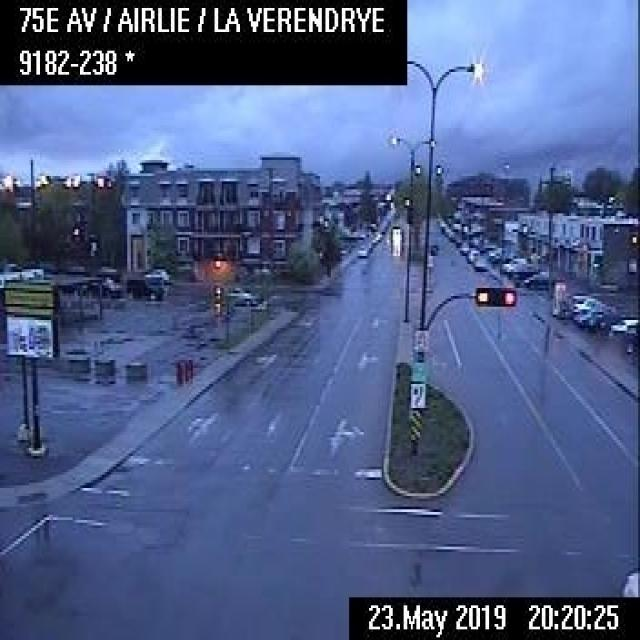construction: (174, 359, 184, 382), (183, 360, 189, 380)
vehicle: (224, 283, 260, 307), (523, 268, 561, 288), (126, 276, 162, 297), (574, 302, 604, 327), (142, 261, 169, 283), (609, 314, 636, 336), (567, 291, 599, 308), (94, 275, 121, 294), (501, 256, 529, 273), (472, 257, 489, 272), (355, 243, 368, 257), (465, 247, 478, 260), (458, 242, 468, 253)
